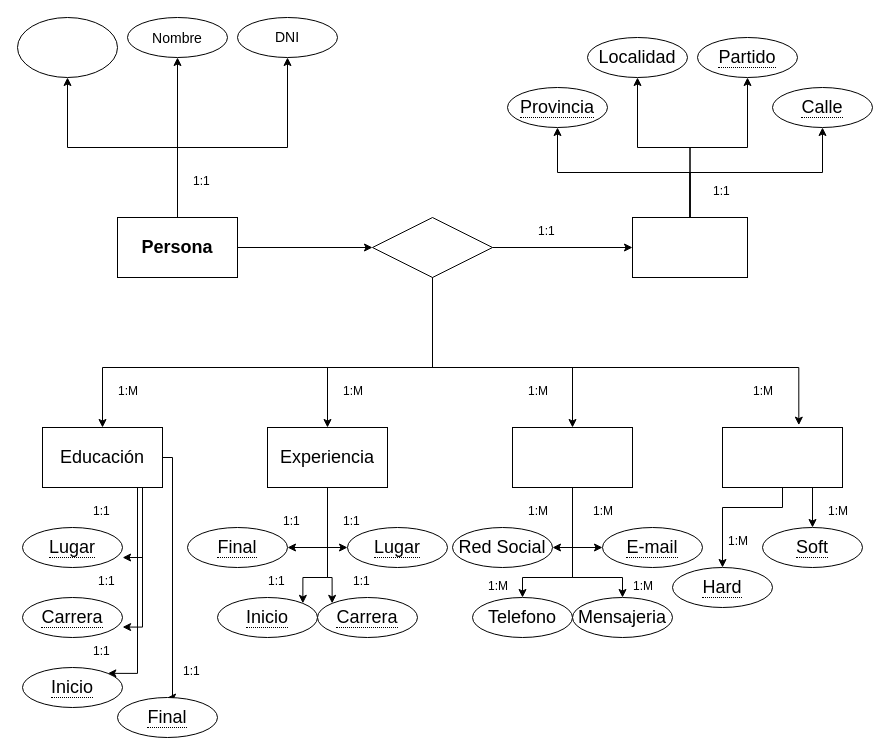
Some shapes in this 890 by 755 pixel diagram are drawn without their labels. Here are the shapes that lost their labels. From the top down, the box of each, then its label:
(16, 16, 118, 78): Fecha de nacimiento
(372, 216, 492, 278): Tiene
(632, 216, 748, 278): Residencia
(512, 426, 632, 488): Contacto
(722, 426, 842, 488): Habilidades
